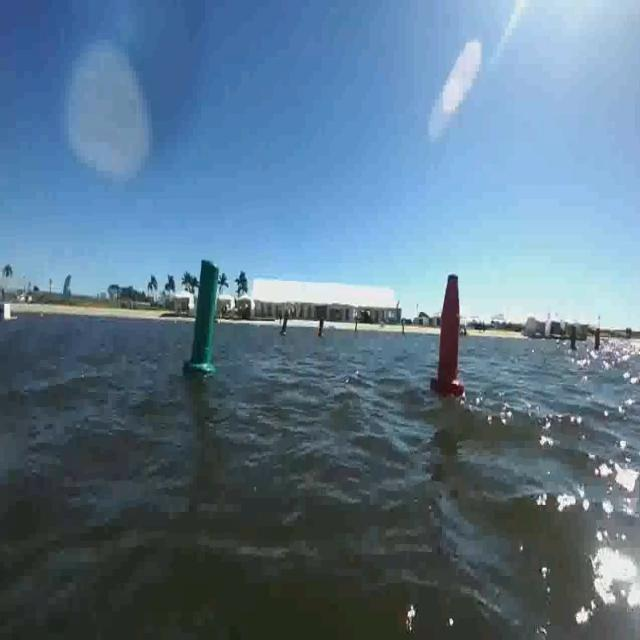green-column-buoy: (185, 256, 222, 376)
red-column-buoy: (431, 271, 463, 398)
